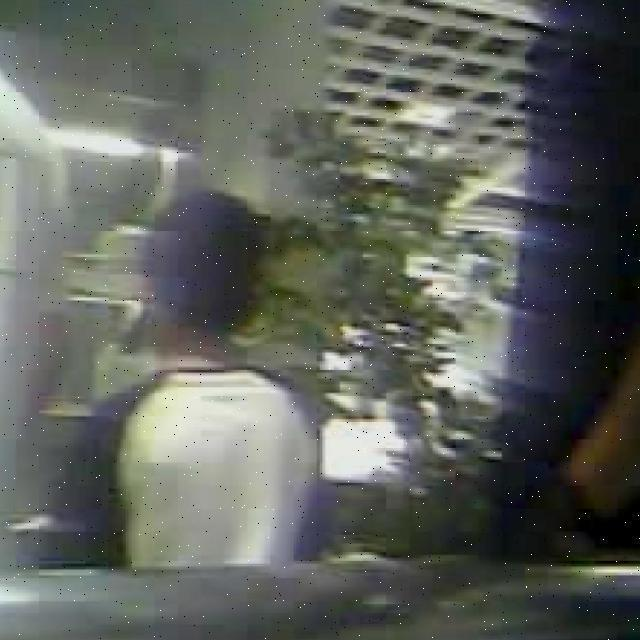person: (50, 191, 331, 576), (473, 0, 640, 558)
